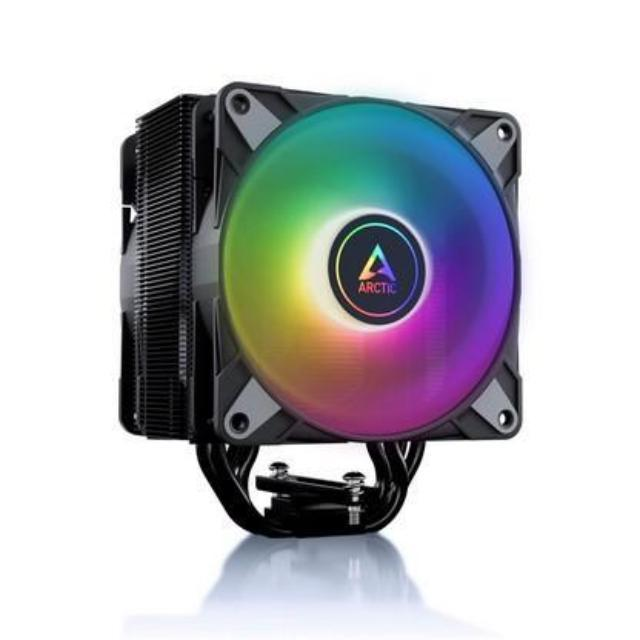CPU_Fan: (109, 79, 524, 536)
